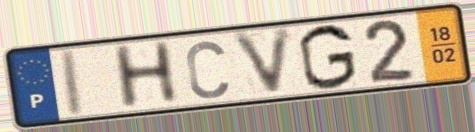2: (362, 17, 419, 86)
C: (183, 38, 232, 102)
G: (295, 22, 359, 92)
H: (108, 39, 183, 113)
I: (61, 46, 88, 120)
V: (227, 23, 297, 100)
